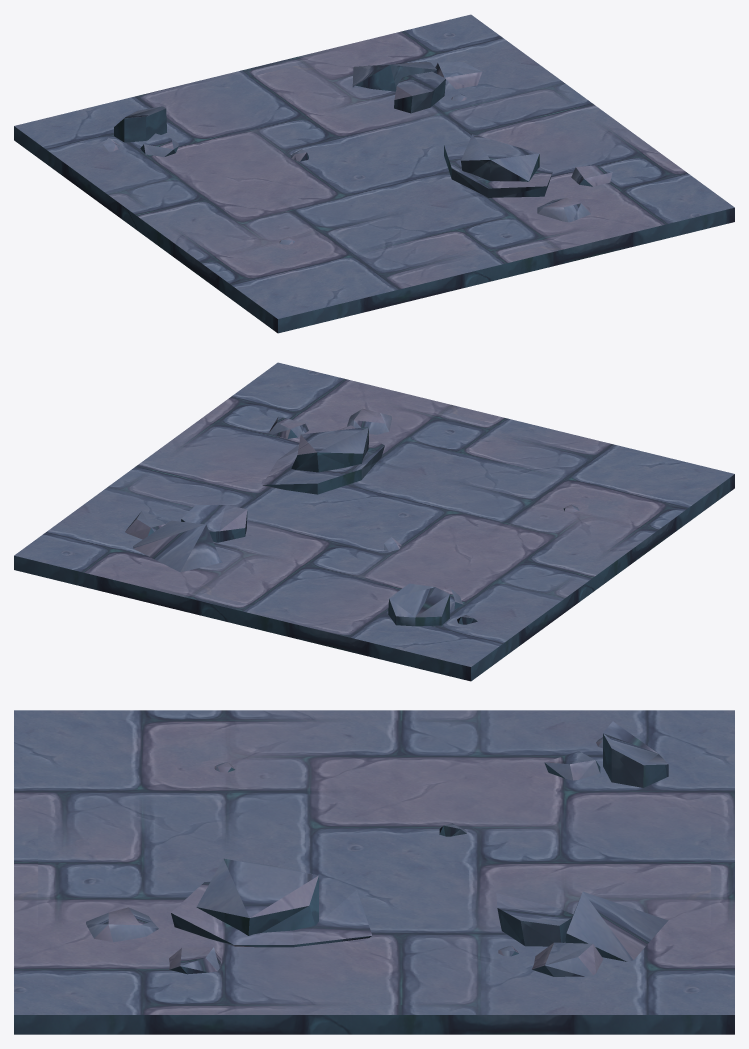
Rendered from floor_dirt_large_rocky.gltf.
The picture shows the model from 3 angles, top to bottom: view 1: azimuth 30°, elevation 25°; view 2: azimuth 150°, elevation 25°; view 3: azimuth 270°, elevation 25°; orthographic projection. The views are drawn at different scales.
Parts seen in each view (by area): view 1: floor_dirt_large_rocky; view 2: floor_dirt_large_rocky; view 3: floor_dirt_large_rocky.
Part boxes in pixels (x1,y1,x2,y2): floor_dirt_large_rocky: (14, 14, 734, 333); floor_dirt_large_rocky: (14, 362, 734, 681); floor_dirt_large_rocky: (14, 710, 734, 1034).
Bounding box in the file's own units: 4 × 0.3928 × 4.
2 materials, 2 textured.
